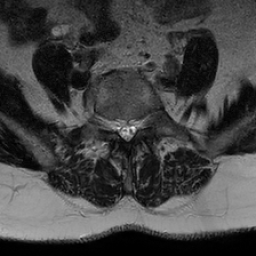CCS_normal: (123, 109, 131, 147)
LFS_normal: (138, 108, 147, 137)
LLS_normal: (131, 110, 138, 140)
RFS_normal: (106, 109, 115, 138)
RLS_normal: (115, 110, 123, 141)
